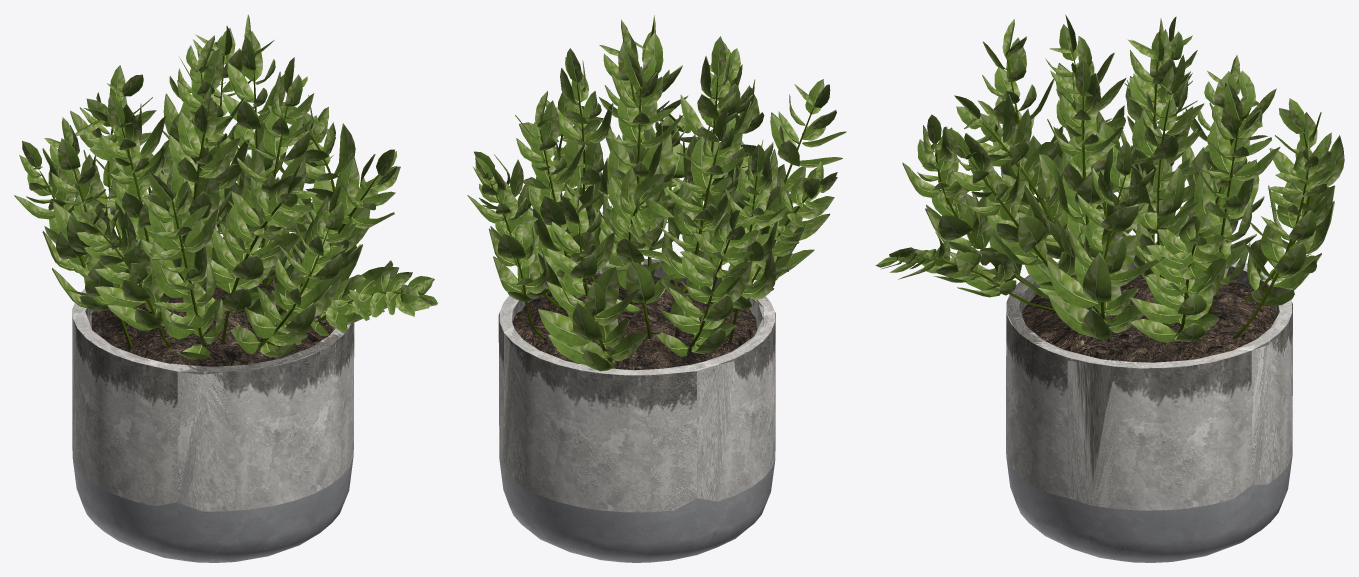
Rendered from potted-plant-1.gltf.
The picture shows the model from 3 angles, left to right: view 1: azimuth 30°, elevation 25°; view 2: azimuth 150°, elevation 25°; view 3: azimuth 270°, elevation 25°; orthographic projection. The views are drawn at different scales.
Visible parts, largest first — view 1: PottedPlant1; view 2: PottedPlant1; view 3: PottedPlant1.
Boxes of the visible parts, bbox=[...] form: PottedPlant1: bbox=[14, 14, 438, 562]; PottedPlant1: bbox=[467, 15, 846, 562]; PottedPlant1: bbox=[875, 14, 1344, 562].
Size of the model in its own units: 0.3693 by 0.5498 by 0.4684.
5 materials, 5 textured.
